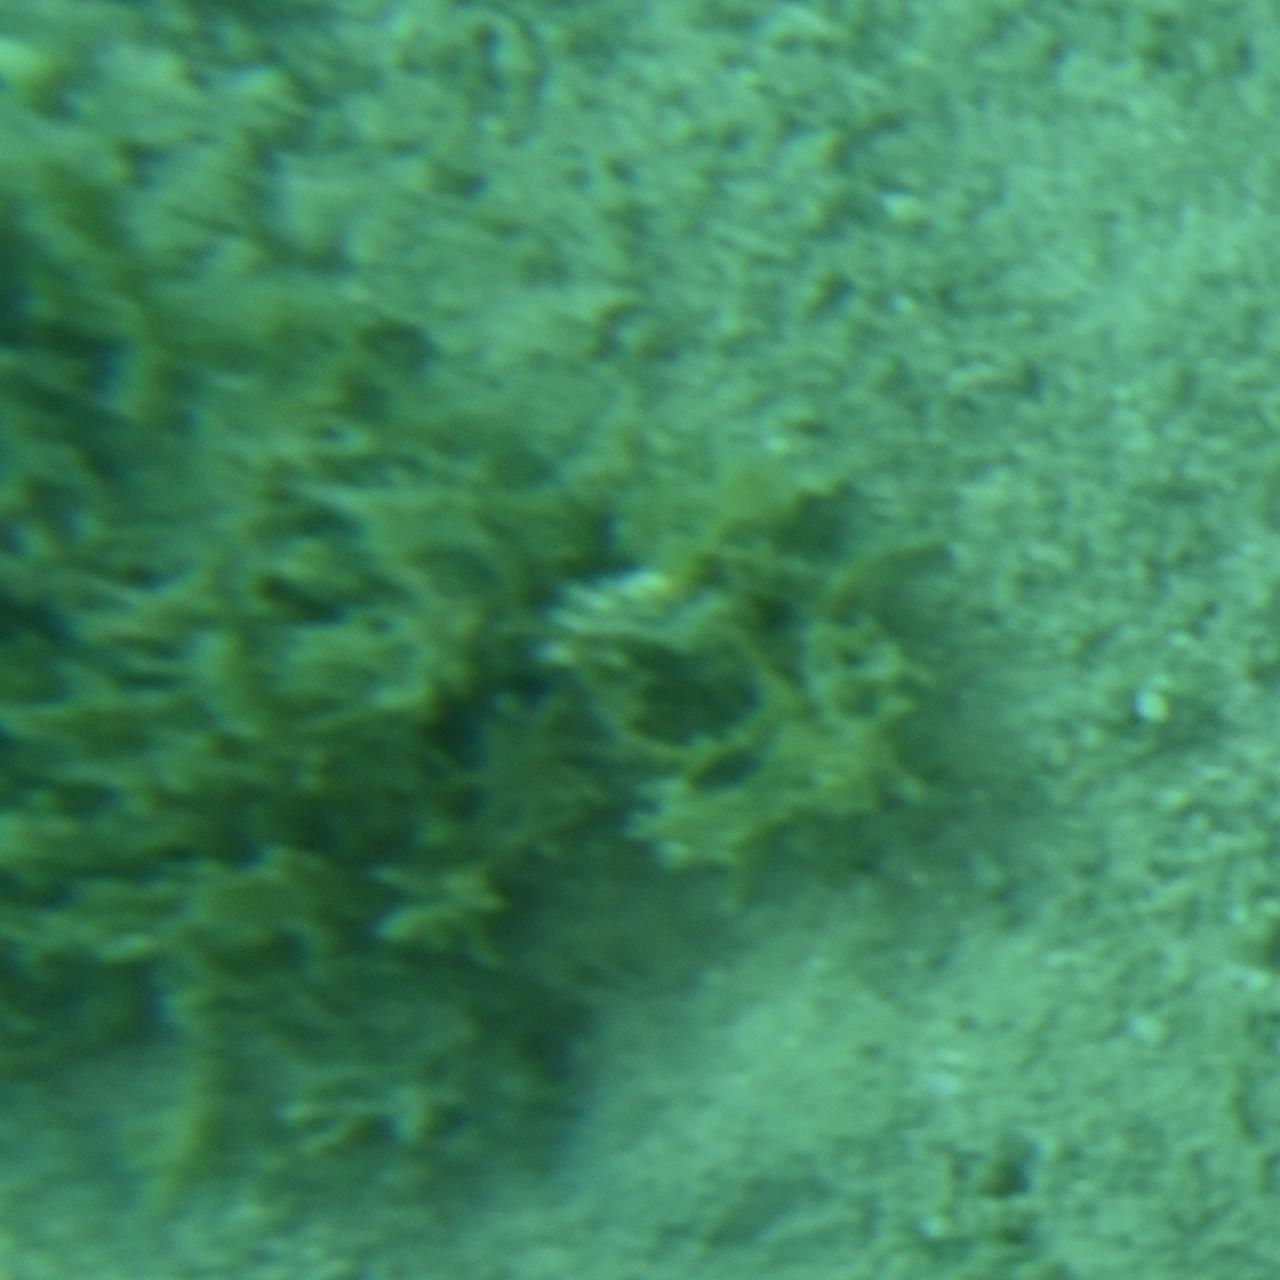Phaeophyceae -cfr Cystoseira-: (0, 64, 982, 1216)
